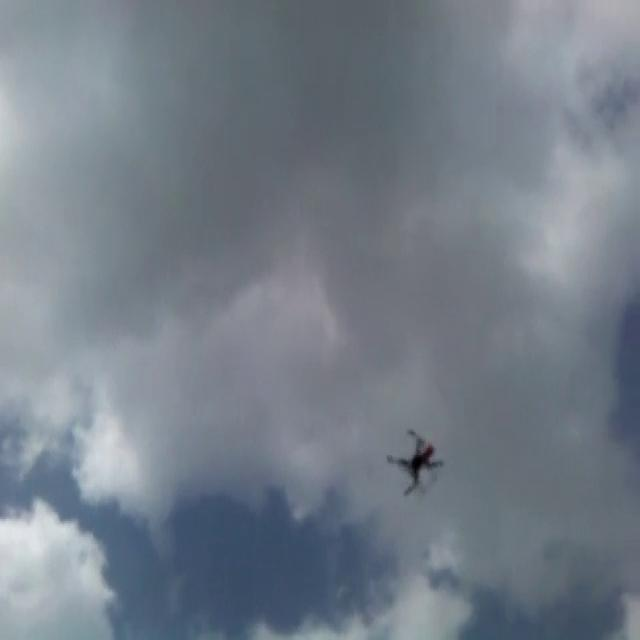drone: (382, 428, 445, 498)
